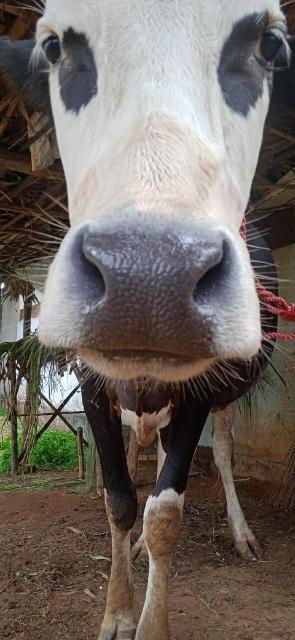Muzzle: (66, 228, 224, 358)
